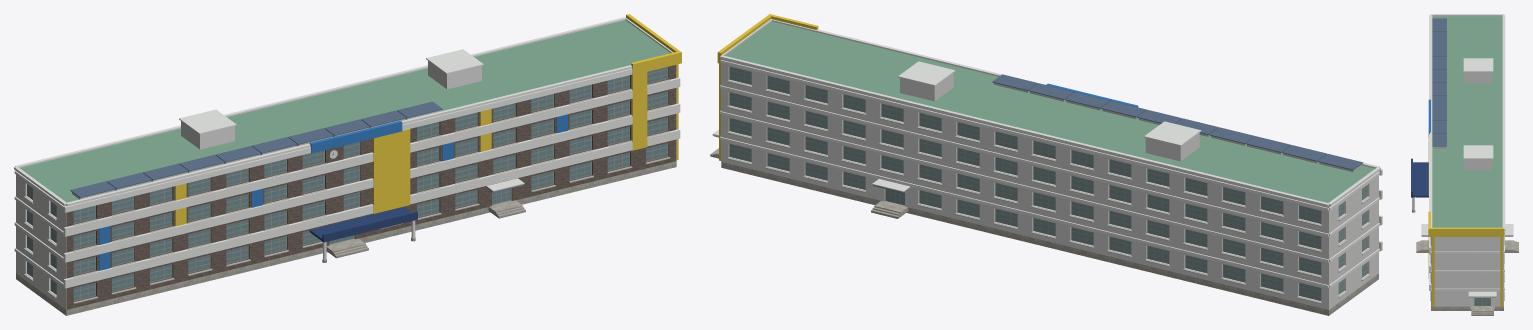
The picture shows the model from 3 angles, left to right: view 1: azimuth 30°, elevation 25°; view 2: azimuth 150°, elevation 25°; view 3: azimuth 270°, elevation 25°; orthographic projection. The views are drawn at different scales.
Visible parts, largest first — view 1: main__roof, main__band, main__darkbrick, main__glass, main__frame, main__cap, main__yellow, main__panel, main__solar, main__stone, main__sill, main__blue (+3 smaller); view 2: main__panel, main__roof, main__sideglass, main__band, main__frame, main__cap, main__stone, main__solar, main__sill, main__steel, main__yellow; view 3: main__roof, main__panel, main__cap, main__solar, main__yellow, main__band, main__canopy, main__stone, main__stair-east, main__glass, main__blue, main__threshold-courtyard (+1 smaller).
Boxes of the visible parts, x1=… form: main__roof: x1=20, y1=20, x2=670, y2=202; main__band: x1=14, y1=68, x2=680, y2=288; main__darkbrick: x1=66, y1=65, x2=676, y2=309; main__glass: x1=73, y1=67, x2=667, y2=300; main__frame: x1=27, y1=67, x2=668, y2=300; main__cap: x1=14, y1=17, x2=673, y2=260; main__yellow: x1=175, y1=14, x2=681, y2=226; main__panel: x1=16, y1=61, x2=676, y2=309; main__solar: x1=70, y1=101, x2=442, y2=197; main__stone: x1=16, y1=161, x2=676, y2=315; main__sill: x1=23, y1=79, x2=670, y2=303; main__blue: x1=99, y1=114, x2=567, y2=270; main__panel: x1=721, y1=59, x2=1378, y2=309; main__roof: x1=725, y1=21, x2=1374, y2=206; main__sideglass: x1=730, y1=66, x2=1367, y2=300; main__band: x1=720, y1=60, x2=1382, y2=288; main__frame: x1=729, y1=66, x2=1367, y2=300; main__cap: x1=712, y1=19, x2=1380, y2=206; main__stone: x1=721, y1=162, x2=1378, y2=315; main__solar: x1=992, y1=74, x2=1363, y2=170; main__sill: x1=727, y1=80, x2=1370, y2=303; main__steel: x1=994, y1=83, x2=1361, y2=172; main__yellow: x1=717, y1=14, x2=818, y2=160; main__roof: x1=1432, y1=16, x2=1502, y2=227; main__panel: x1=1431, y1=72, x2=1503, y2=306; main__cap: x1=1412, y1=14, x2=1513, y2=308; main__solar: x1=1432, y1=18, x2=1446, y2=146; main__yellow: x1=1428, y1=138, x2=1504, y2=307; main__band: x1=1429, y1=15, x2=1504, y2=290; main__canopy: x1=1411, y1=158, x2=1428, y2=197; main__stone: x1=1412, y1=210, x2=1503, y2=310; main__stair-east: x1=1471, y1=310, x2=1493, y2=315; main__glass: x1=1474, y1=298, x2=1490, y2=305; main__blue: x1=1428, y1=99, x2=1430, y2=137; main__threshold-courtyard: x1=1505, y1=240, x2=1511, y2=252.
Size of the model in its own units: 86.81 by 16.84 by 17.77.
Materials: 18 (2 with a texture image).
